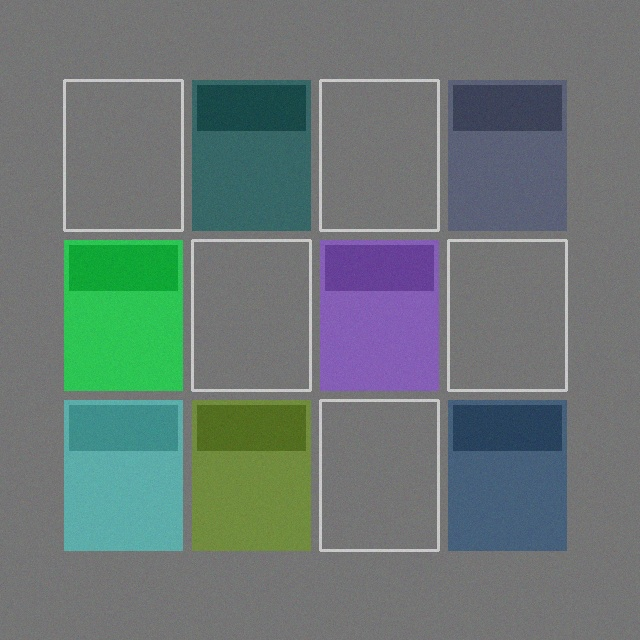space-empty: (64, 80, 182, 230), (320, 80, 438, 230), (192, 240, 310, 390), (448, 240, 566, 390), (320, 400, 438, 550)
space-occupied: (192, 80, 310, 230), (448, 80, 566, 230), (64, 240, 182, 390), (320, 240, 438, 390), (64, 400, 182, 550), (192, 400, 310, 550), (448, 400, 566, 550)
